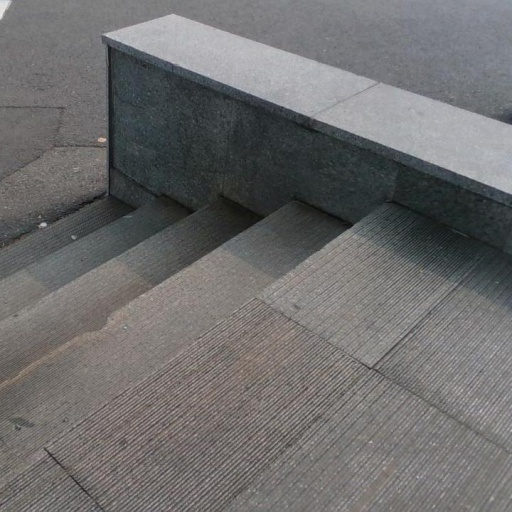Stairs: (0, 154, 512, 512)
